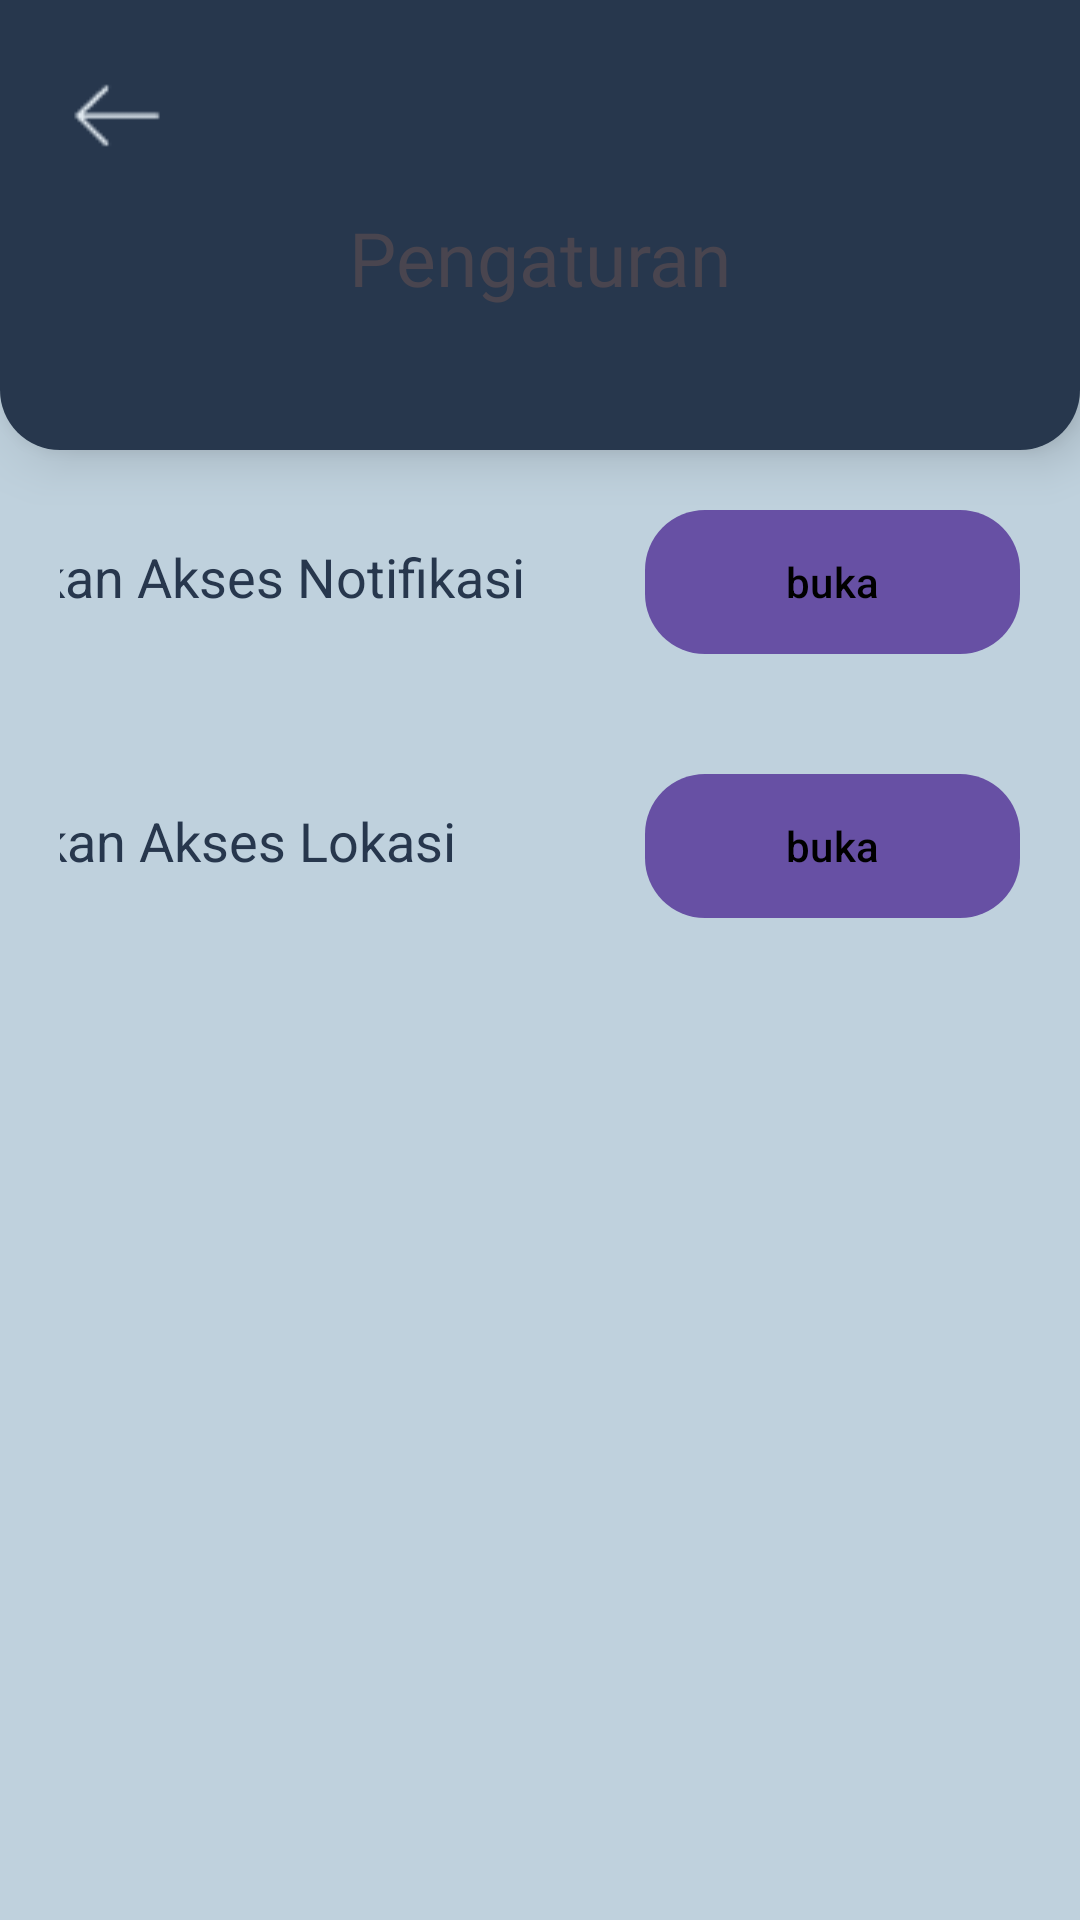

Where to tap for icons on this 1080px x 1920px app screen, as (x=x, y=y):
arrow: (x=117, y=116)
